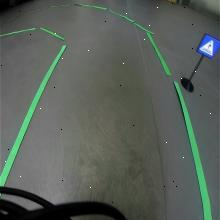crosswalk: (196, 34, 220, 60)
